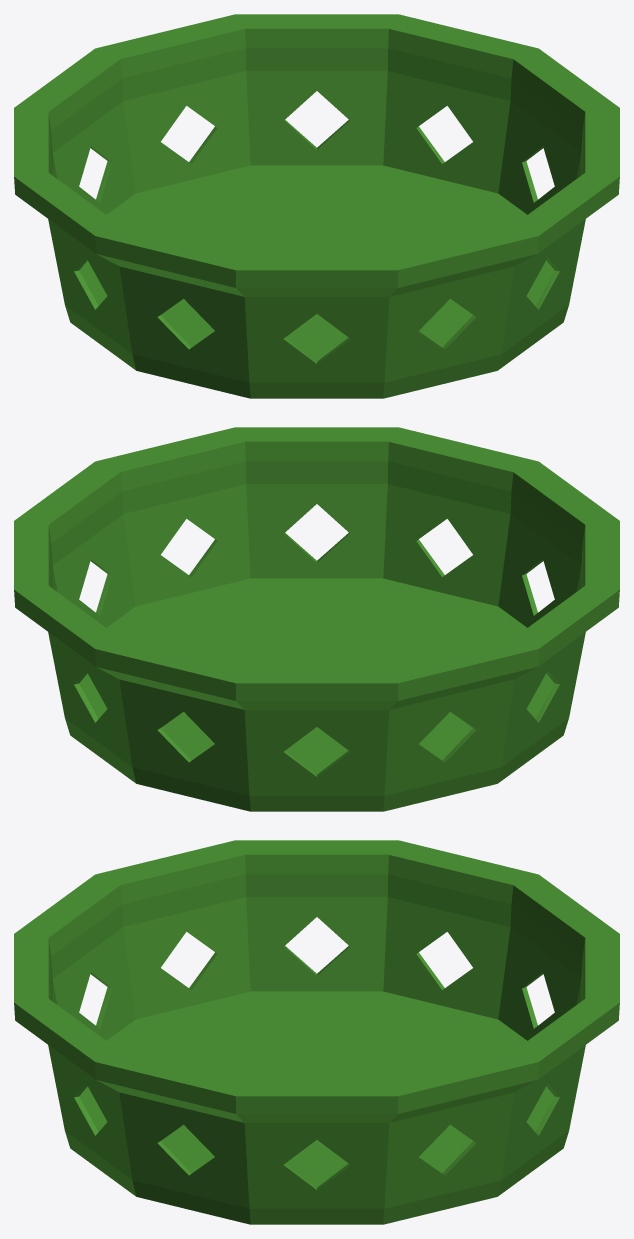
File: SM_Cook_NoodleBasket_01.fbx
3 renders of one model, top to bottom at view 1: azimuth 30°, elevation 25°; view 2: azimuth 150°, elevation 25°; view 3: azimuth 270°, elevation 25°, orthographic.
Parts seen in each view (by area): view 1: SM_Cook_NoodleBasket_01; view 2: SM_Cook_NoodleBasket_01; view 3: SM_Cook_NoodleBasket_01.
Boxes of the visible parts, bbox=[...] form: SM_Cook_NoodleBasket_01: bbox=[14, 14, 619, 398]; SM_Cook_NoodleBasket_01: bbox=[14, 427, 619, 811]; SM_Cook_NoodleBasket_01: bbox=[14, 840, 619, 1224].
Bounding box in the file's own units: 0.5409 × 0.15 × 0.5409.
1 material, 1 textured.
